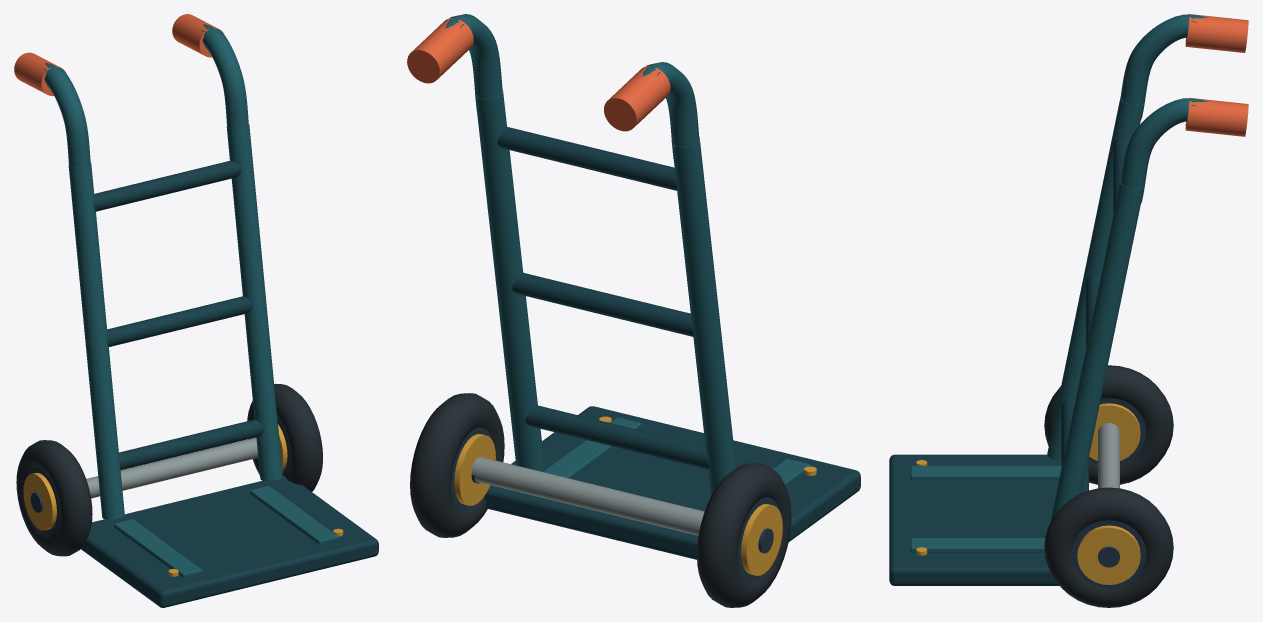
The model's file is mail-hand-truck.glb.
The picture shows the model from 3 angles, left to right: view 1: azimuth 30°, elevation 25°; view 2: azimuth 150°, elevation 25°; view 3: azimuth 270°, elevation 25°; orthographic projection. The views are drawn at different scales.
Parts seen in each view (by area): view 1: Trolley_Loading_Toe, Trolley_Frame_-0.072, Trolley_Frame_0.072, Trolley_Rubber_Tire_-0.105, Trolley_Rubber_Tire_0.105, Trolley_Axle, Trolley_Crossbar_0.29, Trolley_Crossbar_0.18, Trolley_Crossbar_0.08, Trolley_Handle_Bend_-0.072, Trolley_Handle_Bend_0.072, Trolley_Deck_Skid_0.062 (+4 smaller); view 2: Trolley_Loading_Toe, Trolley_Frame_0.072, Trolley_Frame_-0.072, Trolley_Rubber_Tire_-0.105, Trolley_Rubber_Tire_0.105, Trolley_Axle, Trolley_Crossbar_0.08, Trolley_Crossbar_0.18, Trolley_Crossbar_0.29, Trolley_Coral_Grip_0.072, Trolley_Coral_Grip_-0.072, Trolley_Handle_Bend_0.072 (+4 smaller); view 3: Trolley_Loading_Toe, Trolley_Rubber_Tire_0.105, Trolley_Frame_0.072, Trolley_Frame_-0.072, Trolley_Rubber_Tire_-0.105, Trolley_Handle_Bend_0.072, Trolley_Handle_Bend_-0.072, Trolley_Brass_Hub_0.105, Trolley_Deck_Skid_-0.062, Trolley_Coral_Grip_-0.072, Trolley_Coral_Grip_0.072, Trolley_Deck_Skid_0.062 (+7 smaller).
Part boxes in pixels (left/top/right/bottom): Trolley_Loading_Toe: left=80, top=475, right=378, bottom=607; Trolley_Frame_-0.072: left=68, top=163, right=124, bottom=519; Trolley_Frame_0.072: left=226, top=124, right=282, bottom=480; Trolley_Rubber_Tire_-0.105: left=16, top=440, right=92, bottom=556; Trolley_Rubber_Tire_0.105: left=247, top=383, right=322, bottom=491; Trolley_Axle: left=86, top=437, right=258, bottom=498; Trolley_Crossbar_0.29: left=93, top=160, right=241, bottom=211; Trolley_Crossbar_0.18: left=107, top=296, right=252, bottom=346; Trolley_Crossbar_0.08: left=119, top=419, right=263, bottom=470; Trolley_Handle_Bend_-0.072: left=42, top=62, right=90, bottom=180; Trolley_Handle_Bend_0.072: left=201, top=24, right=248, bottom=140; Trolley_Deck_Skid_0.062: left=250, top=486, right=338, bottom=544; Trolley_Loading_Toe: left=484, top=406, right=860, bottom=559; Trolley_Frame_0.072: left=475, top=89, right=544, bottom=471; Trolley_Frame_-0.072: left=671, top=137, right=736, bottom=496; Trolley_Rubber_Tire_-0.105: left=697, top=463, right=791, bottom=607; Trolley_Rubber_Tire_0.105: left=410, top=393, right=504, bottom=537; Trolley_Axle: left=471, top=457, right=704, bottom=535; Trolley_Crossbar_0.08: left=525, top=405, right=708, bottom=469; Trolley_Crossbar_0.18: left=512, top=273, right=693, bottom=336; Trolley_Crossbar_0.29: left=497, top=127, right=676, bottom=190; Trolley_Coral_Grip_0.072: left=407, top=18, right=473, bottom=83; Trolley_Coral_Grip_-0.072: left=604, top=66, right=670, bottom=131; Trolley_Handle_Bend_0.072: left=443, top=14, right=502, bottom=116; Trolley_Loading_Toe: left=889, top=454, right=1088, bottom=585; Trolley_Rubber_Tire_0.105: left=1044, top=487, right=1173, bottom=607; Trolley_Frame_0.072: left=1050, top=181, right=1144, bottom=523; Trolley_Frame_-0.072: left=1047, top=97, right=1144, bottom=461; Trolley_Rubber_Tire_-0.105: left=1044, top=365, right=1173, bottom=484; Trolley_Handle_Bend_0.072: left=1120, top=98, right=1207, bottom=205; Trolley_Handle_Bend_-0.072: left=1120, top=14, right=1207, bottom=121; Trolley_Brass_Hub_0.105: left=1077, top=525, right=1140, bottom=584; Trolley_Deck_Skid_-0.062: left=910, top=465, right=1061, bottom=479; Trolley_Coral_Grip_-0.072: left=1185, top=14, right=1248, bottom=52; Trolley_Coral_Grip_0.072: left=1185, top=98, right=1248, bottom=136; Trolley_Deck_Skid_0.062: left=910, top=538, right=1045, bottom=552.
Bounding box in the file's own units: 0.244 × 0.3915 × 0.2609.
